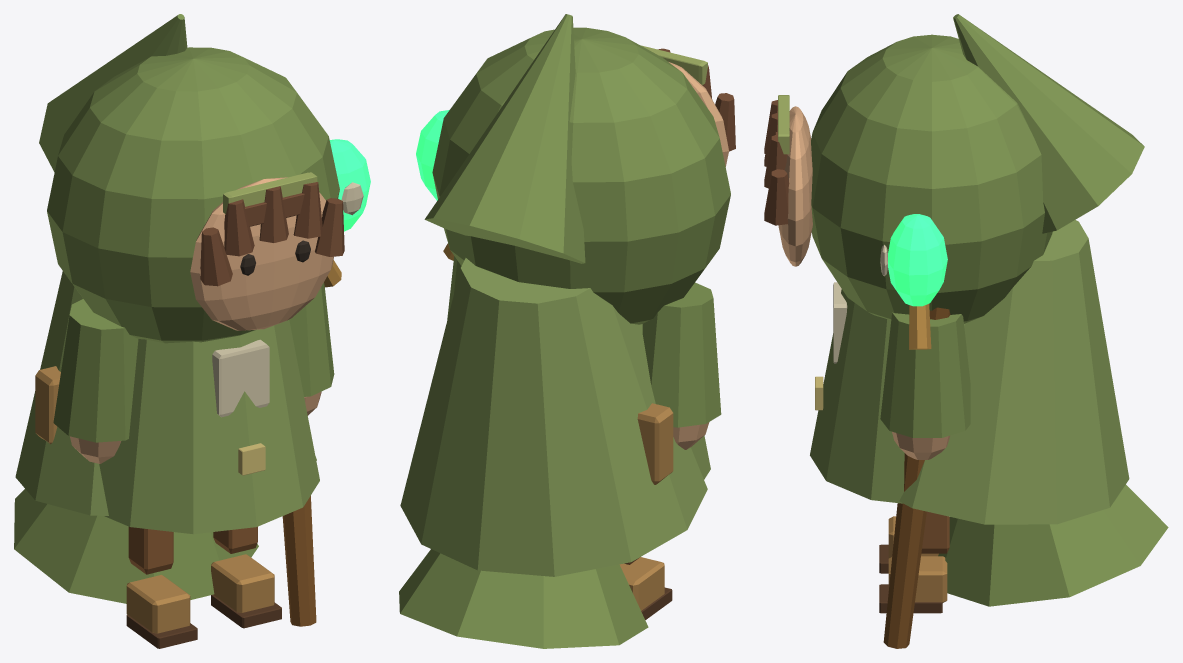
The model's file is hero-3d.glb.
The picture shows the model from 3 angles, left to right: view 1: azimuth 30°, elevation 25°; view 2: azimuth 150°, elevation 25°; view 3: azimuth 270°, elevation 25°; orthographic projection. The views are drawn at different scales.
Visible parts, largest first — view 1: Hood shell, Tunic, Cape tail, Face, Sleeve_L, Cape, Hood point, Shirt front, Staff shaft, Sleeve_R, Boot_L, Boot_R (+16 smaller); view 2: Cape, Hood shell, Hood point, Cape tail, Sleeve_L, Satchel, Boot_L, Jade gem, Face, Hood brow, Hair lock, Hand_L (+1 smaller); view 3: Hood shell, Cape, Cape tail, Hood point, Tunic, Sleeve_R, Staff shaft, Jade gem, Face, Boot_R, Hair lock.004, Leg_R (+6 smaller).
Boxes of the visible parts, box(x1,y1,x2,y2) form: Hood shell: box(47, 47, 339, 343); Tunic: box(99, 320, 319, 534); Cape tail: box(14, 489, 258, 603); Face: box(190, 177, 333, 330); Sleeve_L: box(53, 299, 138, 442); Cape: box(15, 271, 316, 515); Hood point: box(39, 14, 187, 172); Shirt front: box(212, 339, 269, 417); Staff shaft: box(282, 495, 316, 626); Sleeve_R: box(289, 282, 334, 396); Boot_L: box(126, 575, 190, 633); Boot_R: box(211, 554, 274, 612); Cape: box(400, 258, 707, 576); Hood shell: box(432, 27, 730, 324); Hood point: box(424, 14, 585, 263); Cape tail: box(399, 549, 648, 648); Sleeve_L: box(642, 282, 721, 427); Satchel: box(637, 403, 673, 484); Boot_L: box(619, 557, 664, 610); Jade gem: box(416, 110, 449, 200); Face: box(669, 62, 728, 166); Hood brow: box(641, 45, 707, 85); Hair lock: box(715, 93, 735, 151); Hand_L: box(673, 422, 709, 449); Hood shell: box(811, 34, 1052, 323); Cape: box(899, 220, 1129, 524); Cape tail: box(938, 484, 1168, 606); Hood point: box(953, 14, 1144, 233); Tunic: box(810, 289, 965, 503); Sleeve_R: box(880, 312, 970, 437); Staff shaft: box(883, 307, 950, 648); Jade gem: box(888, 214, 947, 306); Face: box(778, 106, 812, 266); Boot_R: box(888, 556, 947, 602); Hair lock.004: box(764, 169, 789, 225); Leg_R: box(921, 511, 949, 553).
Bounding box in the file's own units: 1.4 × 2.75 × 1.72.
